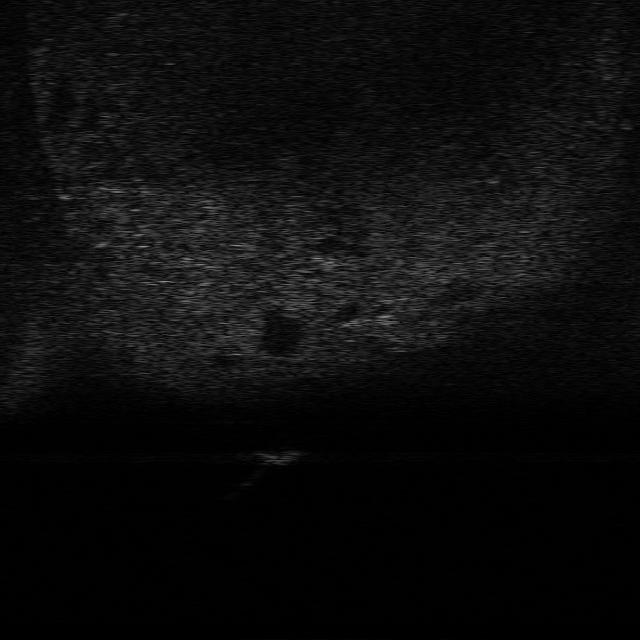cube: (248, 445, 308, 465)
